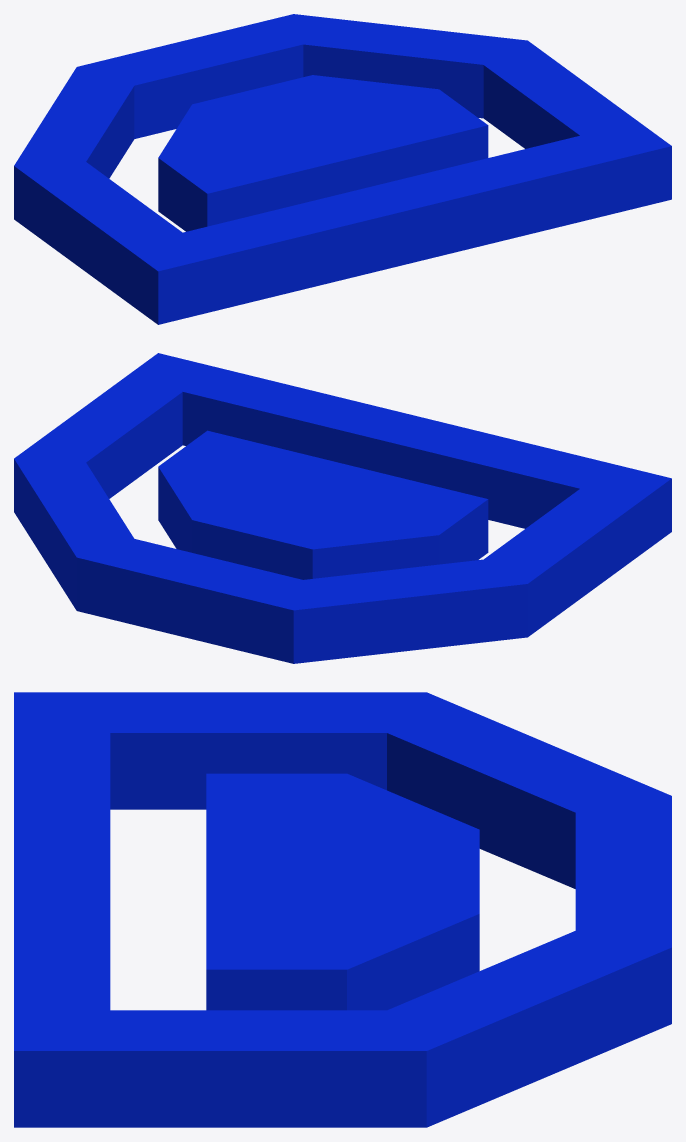
File: water_path_node.fbx
3 renders of one model, top to bottom at view 1: azimuth 30°, elevation 25°; view 2: azimuth 150°, elevation 25°; view 3: azimuth 270°, elevation 25°, orthographic. The views are drawn at different scales.
Visible parts, largest first — view 1: Тор; view 2: Тор; view 3: Тор.
Part boxes in pixels (bbox=[...]): Тор: bbox=[14, 14, 671, 324]; Тор: bbox=[14, 353, 671, 663]; Тор: bbox=[14, 692, 671, 1127].
Size of the model in its own units: 103 by 10.27 by 79.96.
